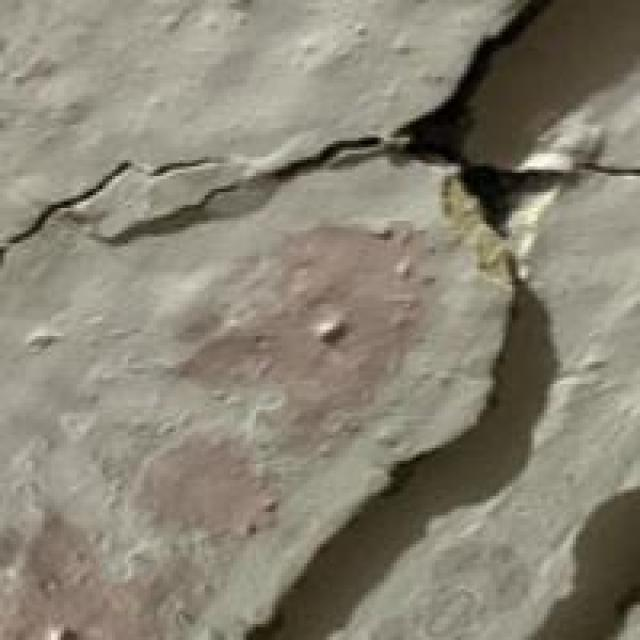Crack: (6, 29, 576, 637)
